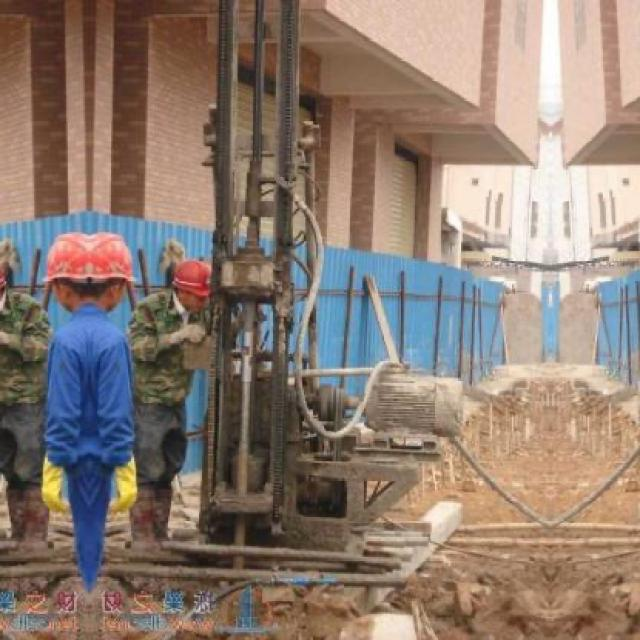helmet: (91, 228, 134, 312), (45, 228, 88, 312), (173, 257, 211, 314)
